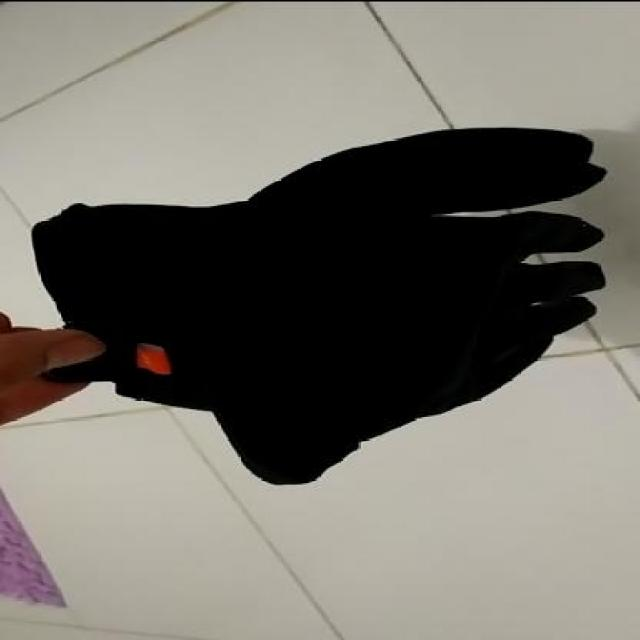gloved_hand: (22, 123, 640, 491)
